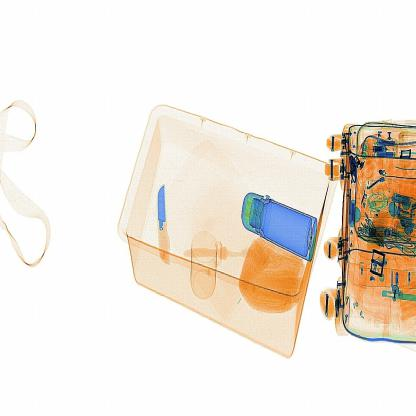wrench: (142, 182, 170, 270)
